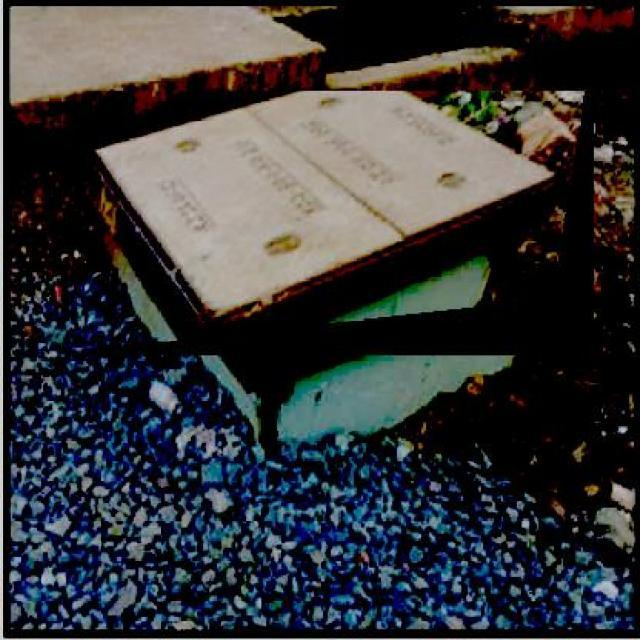Manhole: (84, 90, 594, 355)
